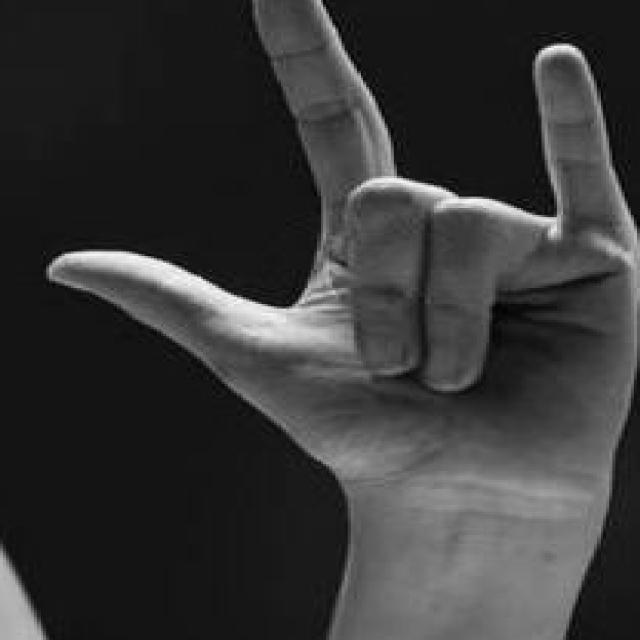i love you: (37, 0, 640, 562)
